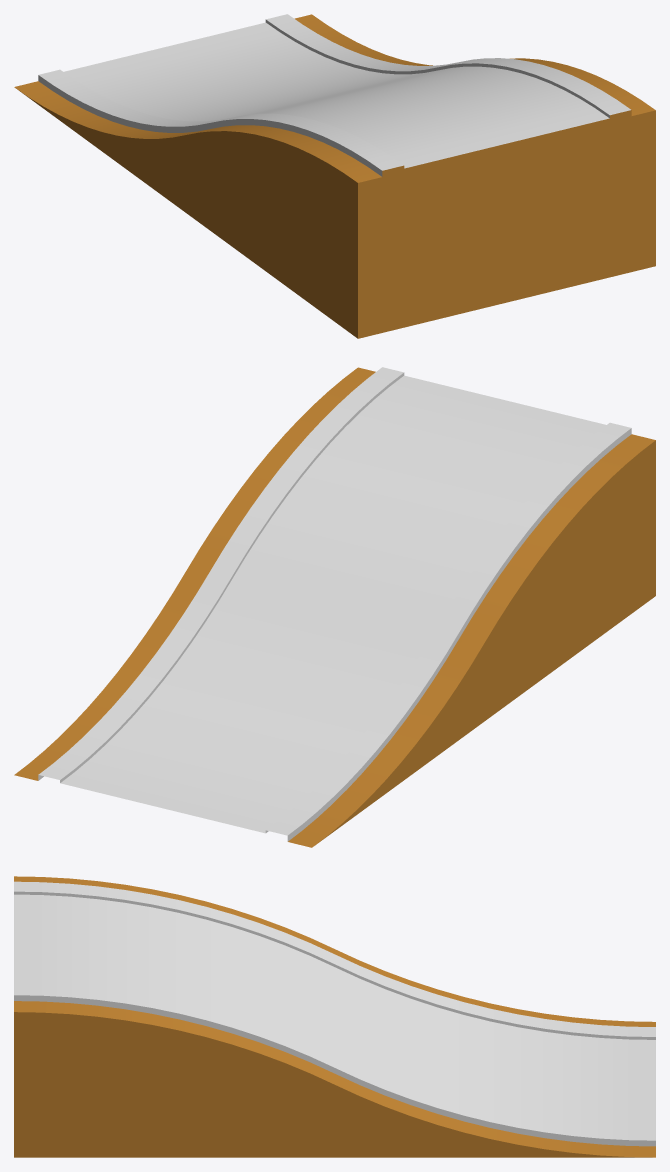
The model's file is Road_Ramp_Long_Curved_Wall.fbx.
3 renders of one model, top to bottom at view 1: azimuth 30°, elevation 25°; view 2: azimuth 150°, elevation 25°; view 3: azimuth 270°, elevation 25°, orthographic. The views are drawn at different scales.
Visible parts, largest first — view 1: roadRampLongCurvedWall; view 2: roadRampLongCurvedWall; view 3: roadRampLongCurvedWall.
Boxes of the visible parts, x1=… form: roadRampLongCurvedWall: x1=14, y1=14, x2=655, y2=338; roadRampLongCurvedWall: x1=14, y1=367, x2=655, y2=847; roadRampLongCurvedWall: x1=14, y1=876, x2=655, y2=1157.
Bounding box in the file's own units: 100 × 52 × 200.
